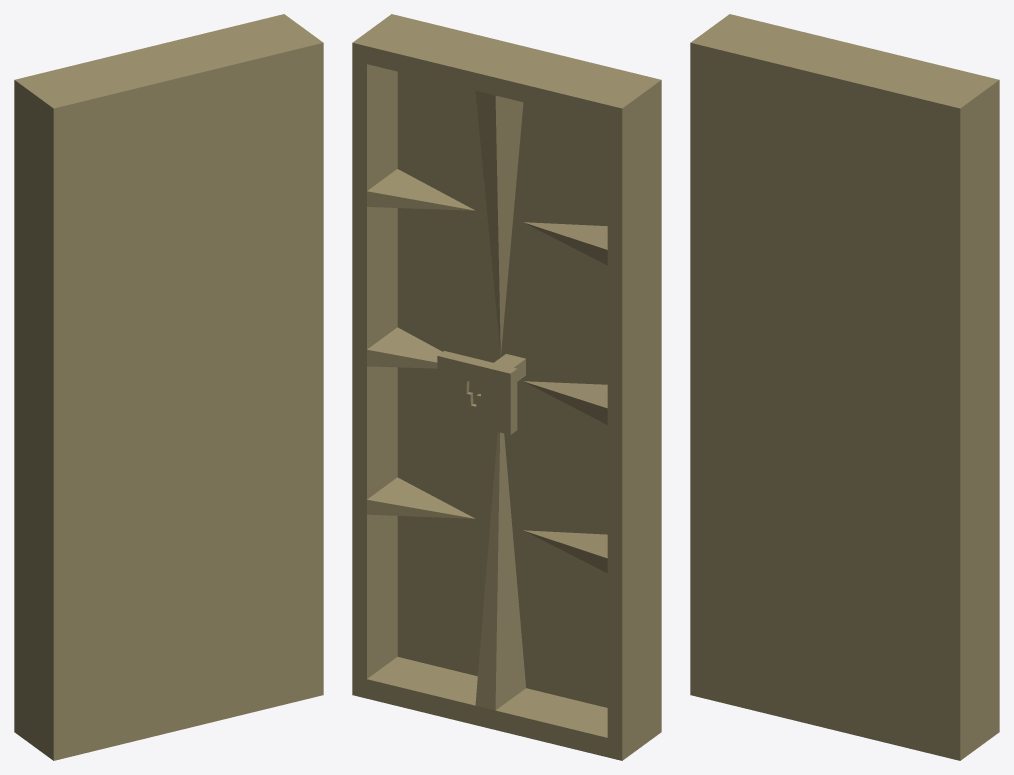
Rendered from Door.fbx.
3 renders of one model, left to right at view 1: azimuth 30°, elevation 25°; view 2: azimuth 150°, elevation 25°; view 3: azimuth 330°, elevation 25°, orthographic.
Parts seen in each view (by area): view 1: Door; view 2: Door; view 3: Door.
Boxes of the visible parts, x1=… form: Door: x1=14, y1=14, x2=323, y2=760; Door: x1=352, y1=14, x2=661, y2=760; Door: x1=690, y1=14, x2=999, y2=760.
Size of the model in its own units: 1984 by 4583 by 647.
